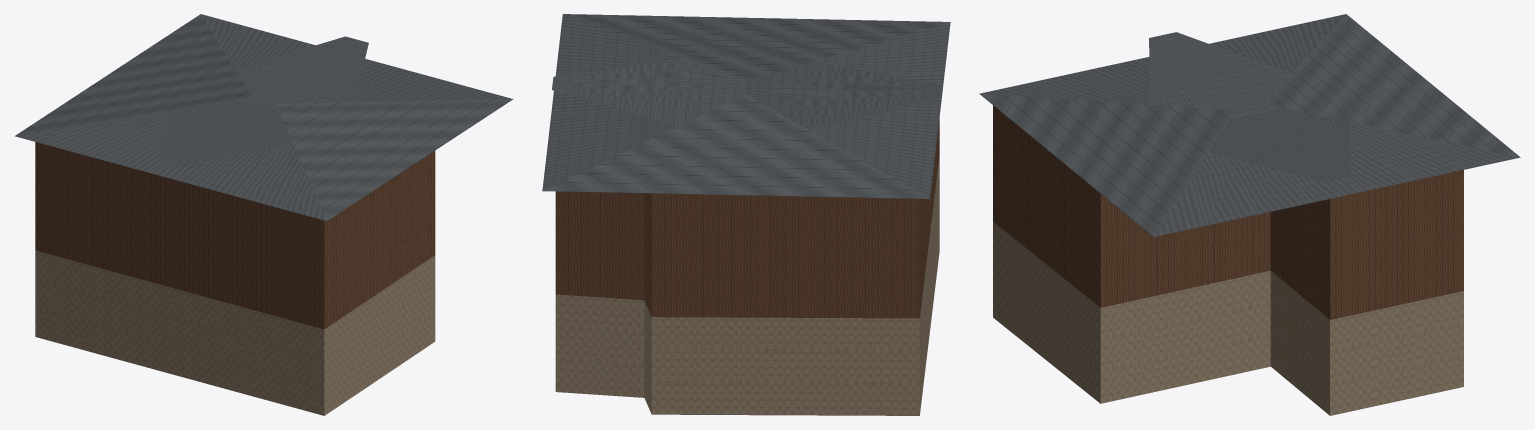
Rendered from bld_c10_11_494.gltf.
The picture shows the model from 3 angles, left to right: view 1: azimuth 30°, elevation 25°; view 2: azimuth 150°, elevation 25°; view 3: azimuth 270°, elevation 25°; orthographic projection. The views are drawn at different scales.
Parts seen in each view (by area): view 1: bld_c10_11_494; view 2: bld_c10_11_494; view 3: bld_c10_11_494.
Part boxes in pixels (left/top/right/bottom): bld_c10_11_494: left=15, top=14, right=513, bottom=415; bld_c10_11_494: left=542, top=14, right=950, bottom=415; bld_c10_11_494: left=979, top=14, right=1520, bottom=415.
Size of the model in its own units: 25.45 by 12.8 by 26.1.
Materials: 3 (3 with a texture image).
